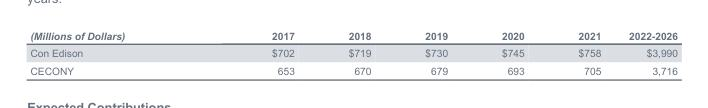table: (29, 29, 676, 76)
table column: (29, 29, 197, 76), (197, 29, 320, 76), (320, 29, 397, 76), (397, 29, 474, 76), (474, 29, 550, 76), (550, 29, 614, 76), (614, 29, 676, 76)
table column header: (29, 29, 676, 44)
table row: (29, 44, 676, 61), (29, 29, 676, 44), (29, 61, 676, 76)
